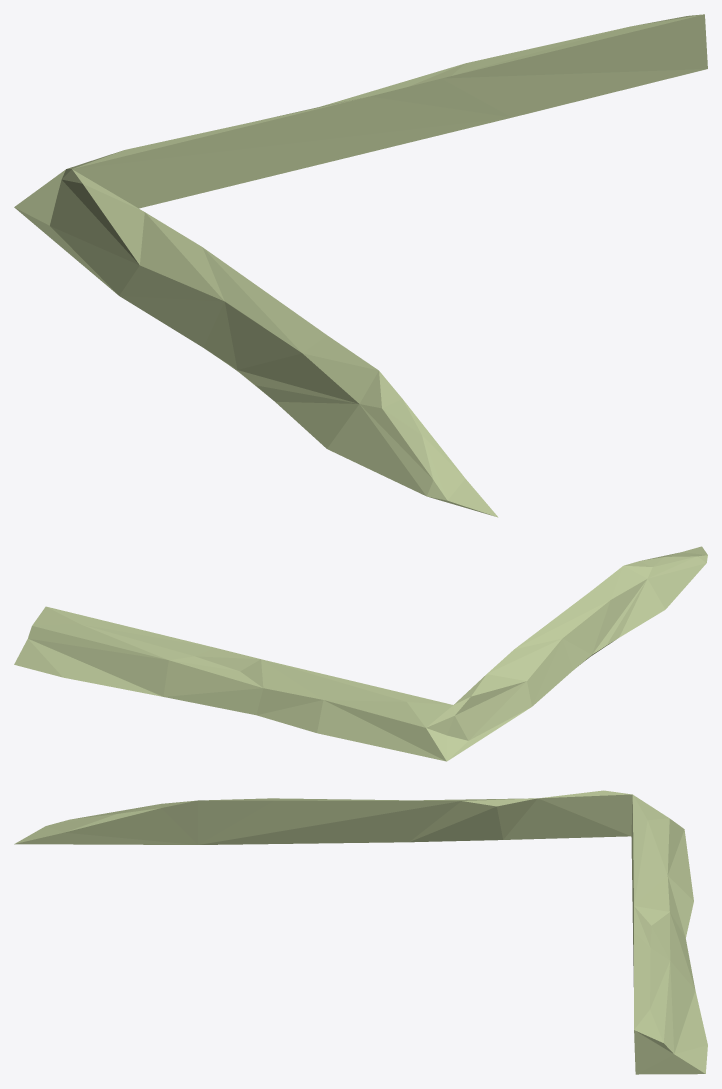
Rendered from hill_2.gltf.
3 views of the same model, one above another, from view 1: azimuth 30°, elevation 25°; view 2: azimuth 150°, elevation 25°; view 3: azimuth 270°, elevation 25° (orthographic). The views are drawn at different scales.
Parts seen in each view (by area): view 1: hill; view 2: hill; view 3: hill.
Part boxes in pixels (x1=…): hill: x1=14, y1=14, x2=707, y2=517; hill: x1=14, y1=546, x2=707, y2=761; hill: x1=14, y1=790, x2=707, y2=1074.
Size of the model in its own units: 7.28 by 0.6163 by 8.52.
